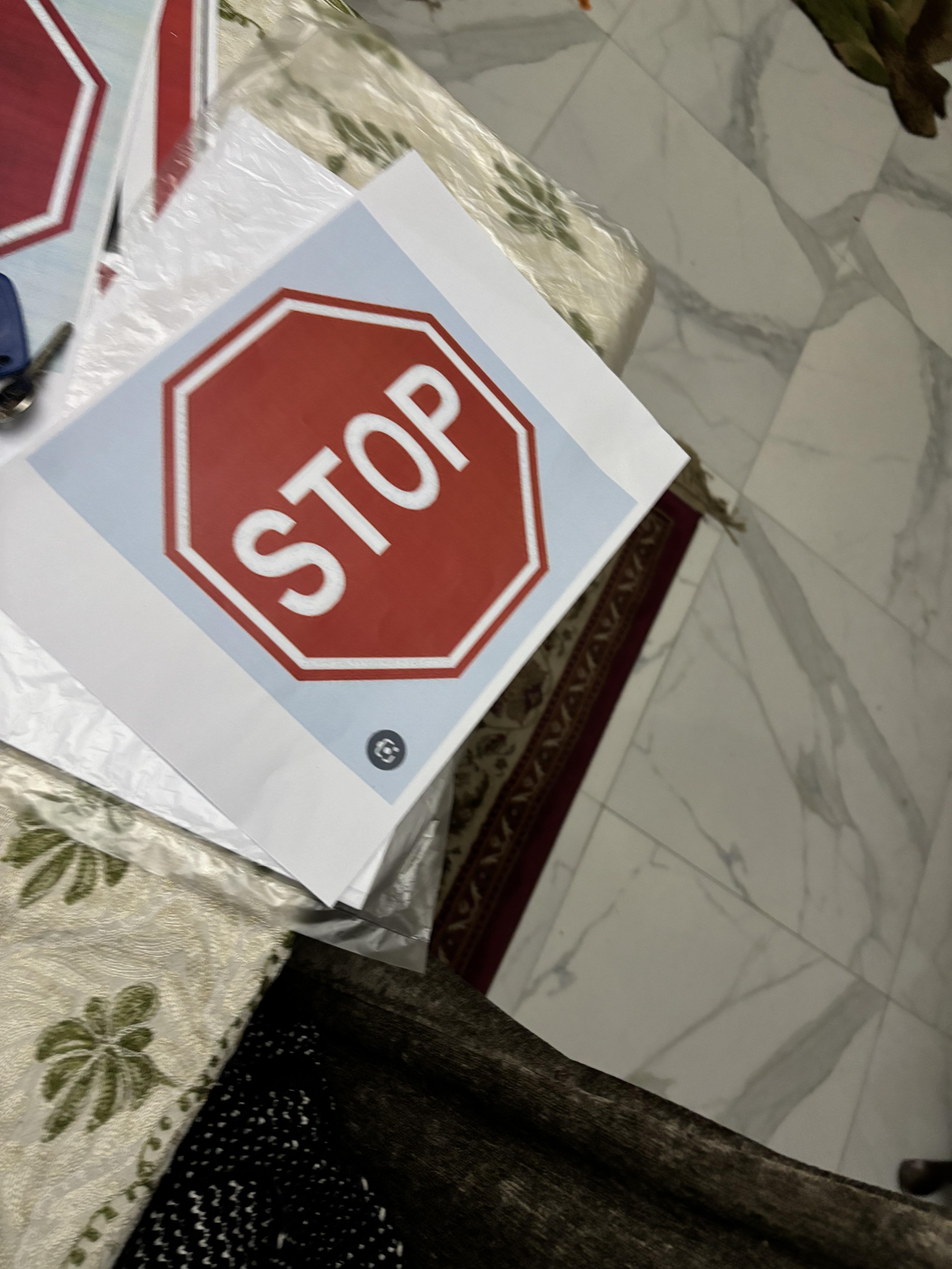Stop: (149, 271, 564, 700)
